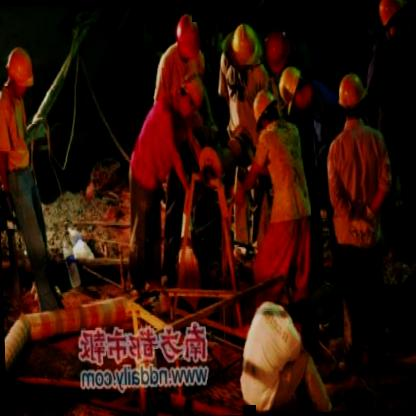helmet: (222, 22, 262, 76), (3, 46, 38, 102), (276, 62, 313, 114), (264, 30, 298, 78), (337, 72, 370, 121), (173, 13, 203, 62), (251, 86, 283, 131), (175, 72, 207, 115), (377, 0, 409, 36)
